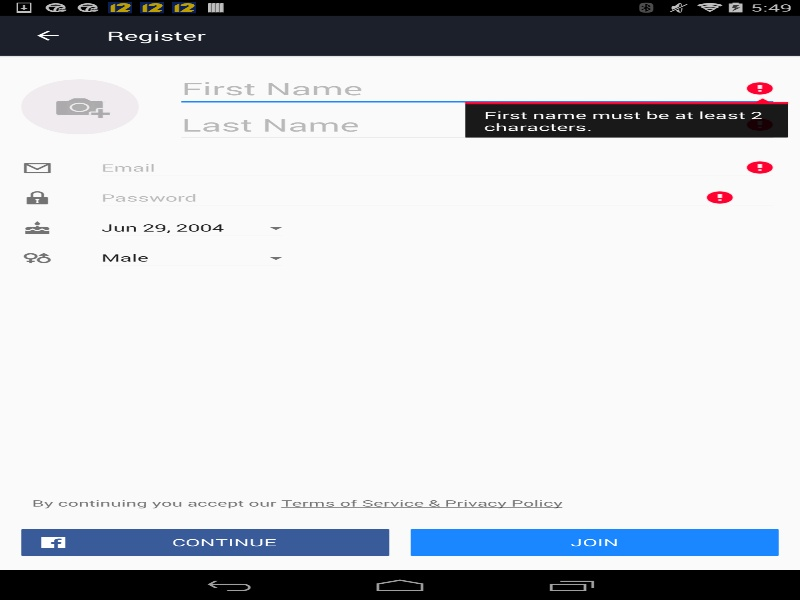Button: (405, 525, 784, 560), (16, 525, 394, 560), (10, 15, 85, 55)
Input: (176, 106, 778, 143), (176, 70, 778, 106), (96, 154, 778, 181), (96, 184, 778, 211), (96, 214, 288, 241), (96, 244, 288, 271)
